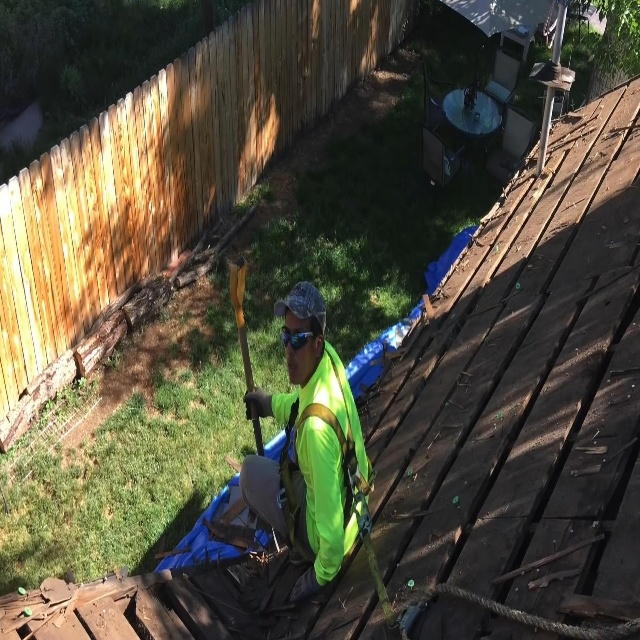Arnes_seguridad: (271, 336, 375, 560)
